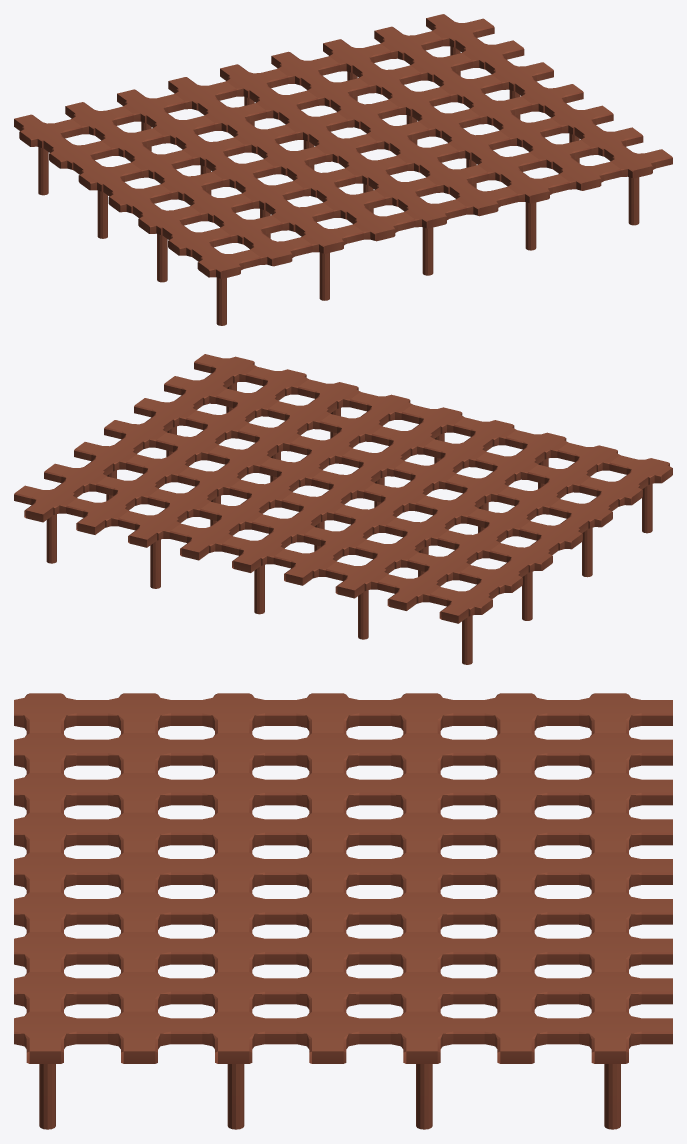
Rendered from multi-bridge.glb.
The picture shows the model from 3 angles, top to bottom: view 1: azimuth 30°, elevation 25°; view 2: azimuth 150°, elevation 25°; view 3: azimuth 270°, elevation 25°; orthographic projection. The views are drawn at different scales.
Visible parts, largest first — view 1: multibridge-col, pillars; view 2: multibridge-col, pillars; view 3: multibridge-col, pillars.
Part boxes in pixels (x1,y1,x2,y2): multibridge-col: [14, 14, 672, 278]; pillars: [38, 46, 639, 325]; multibridge-col: [14, 354, 672, 623]; pillars: [46, 382, 652, 664]; multibridge-col: [14, 693, 672, 1063]; pillars: [39, 1064, 620, 1129].
Bounding box in the file's own units: 60.75 × 7.89 × 47.25.
Materials: 2 (2 with a texture image).
